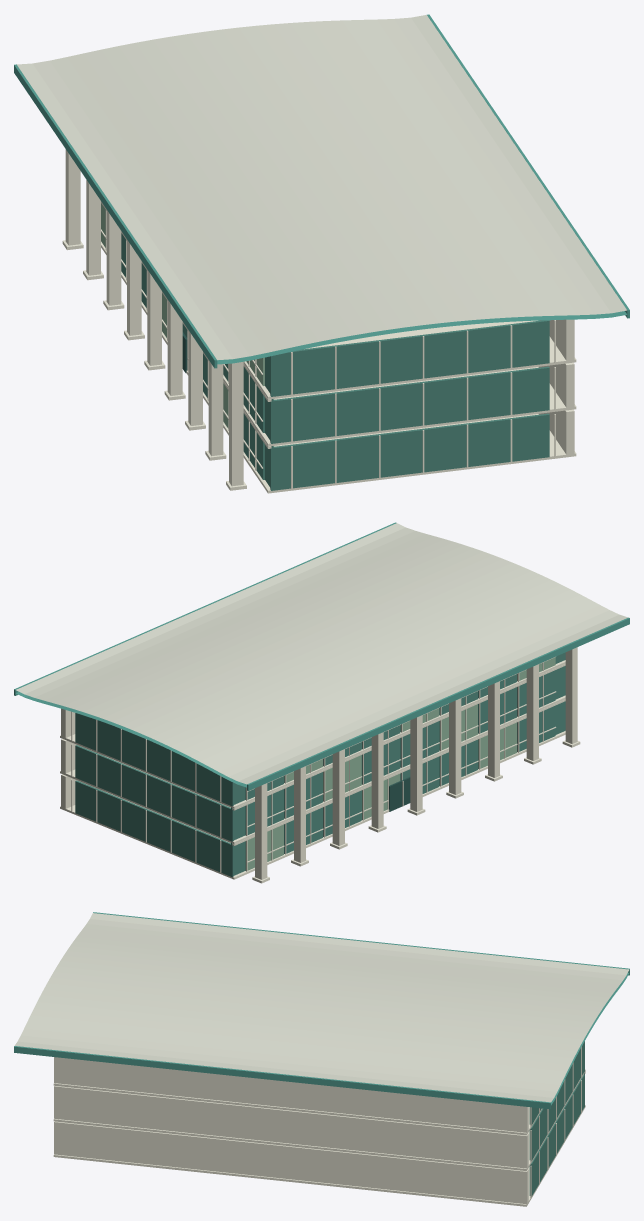
Rendered from Hall_Main.glb.
3 renders of one model, top to bottom at view 1: azimuth 30°, elevation 25°; view 2: azimuth 150°, elevation 25°; view 3: azimuth 270°, elevation 25°, orthographic. The views are drawn at different scales.
Visible parts, largest first — view 1: Hall_Main; view 2: Hall_Main; view 3: Hall_Main.
Boxes of the visible parts, x1=… form: Hall_Main: x1=14, y1=14, x2=629, y2=493; Hall_Main: x1=14, y1=522, x2=629, y2=883; Hall_Main: x1=14, y1=912, x2=629, y2=1206.
Bounding box in the file's own units: 48.25 × 15.08 × 65.72.
